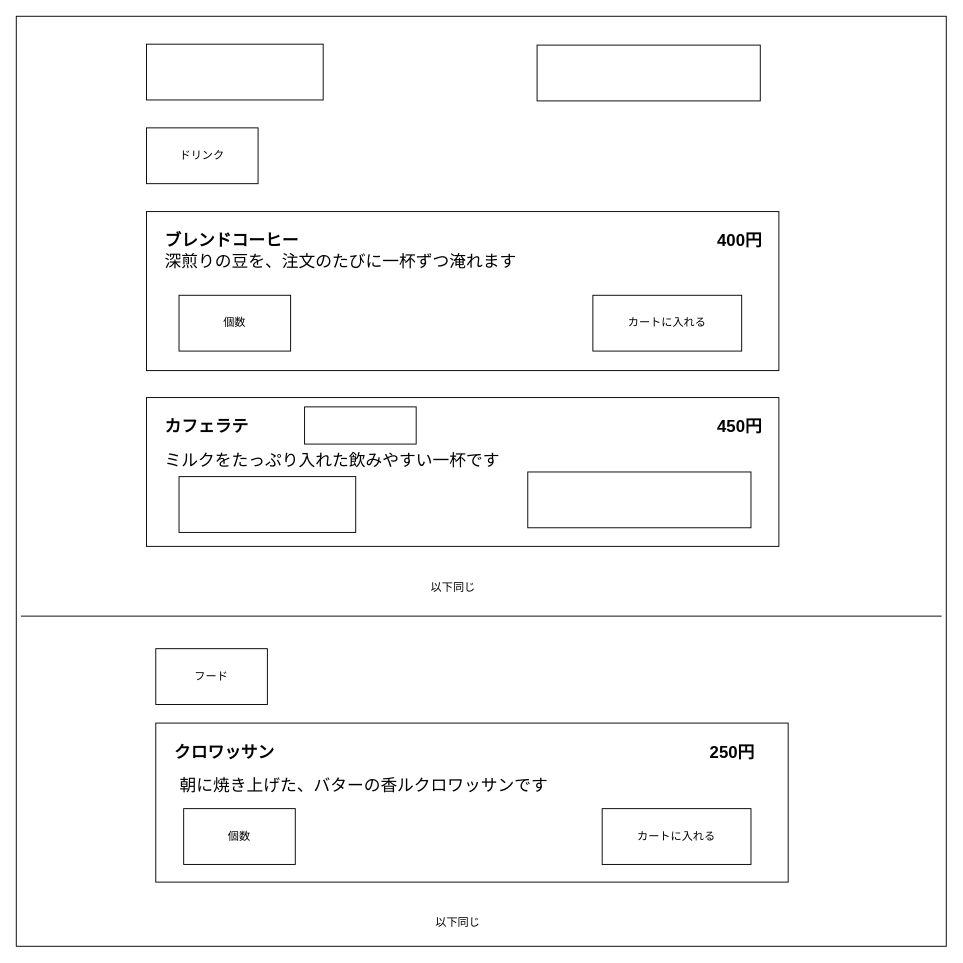
Image size: 963x963. Some labels were removed from this diagram. Each missing label, with the box of its shape:
カートに入れる（押せません）: (527, 471, 751, 528)
メニュー: (146, 43, 323, 100)
個数（選べません）: (178, 476, 356, 532)
売り切れ: (304, 406, 416, 444)
注文の状況を見る: (536, 44, 760, 101)
